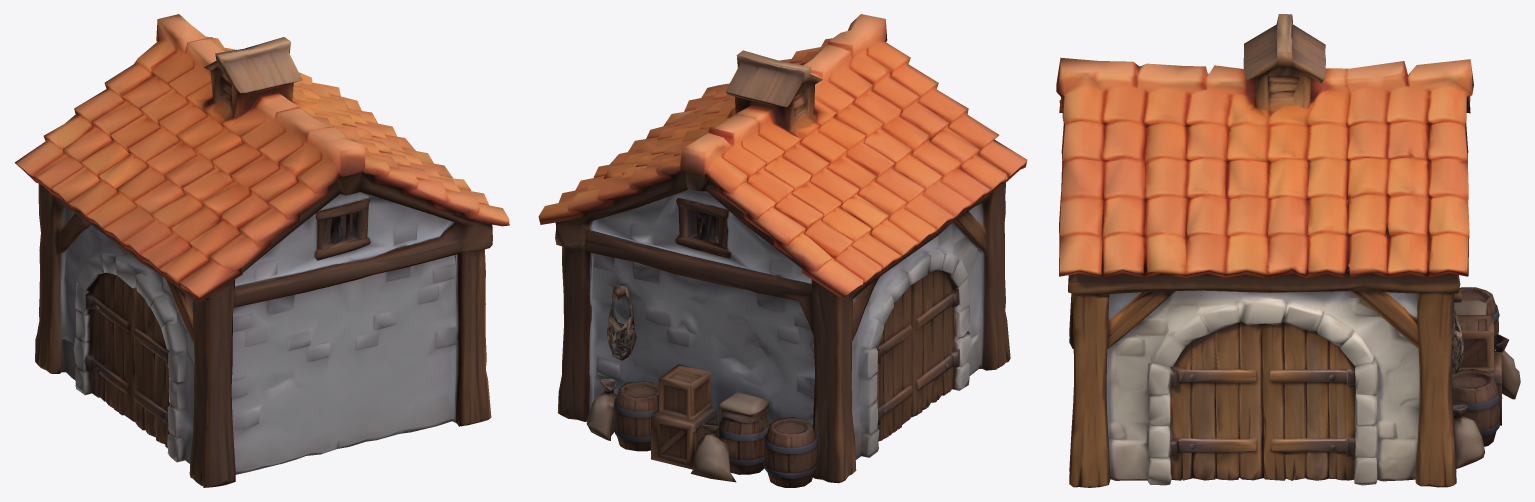
Rendered from storehouse_4k.glb.
3 renders of one model, left to right at view 1: azimuth 30°, elevation 25°; view 2: azimuth 150°, elevation 25°; view 3: azimuth 270°, elevation 25°, orthographic. The views are drawn at different scales.
Parts seen in each view (by area): view 1: tripo_node_44165c0b-c698-444f-b3fe-088ca30295ef; view 2: tripo_node_44165c0b-c698-444f-b3fe-088ca30295ef; view 3: tripo_node_44165c0b-c698-444f-b3fe-088ca30295ef.
Boxes of the visible parts, <box> form: tripo_node_44165c0b-c698-444f-b3fe-088ca30295ef: <box>14,14,509,487</box>; tripo_node_44165c0b-c698-444f-b3fe-088ca30295ef: <box>538,14,1027,487</box>; tripo_node_44165c0b-c698-444f-b3fe-088ca30295ef: <box>1056,14,1520,487</box>.
Bounding box in the file's own units: 0.8677 × 0.8828 × 0.981.
1 material, 1 textured.
